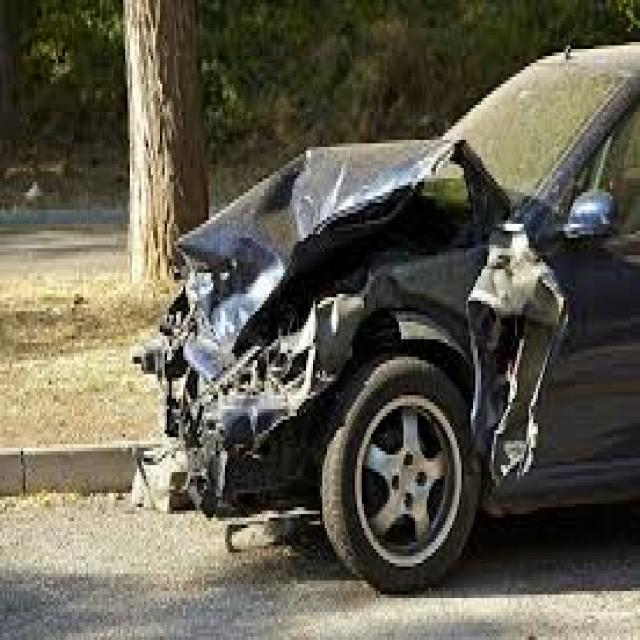severe: (64, 138, 573, 629)
